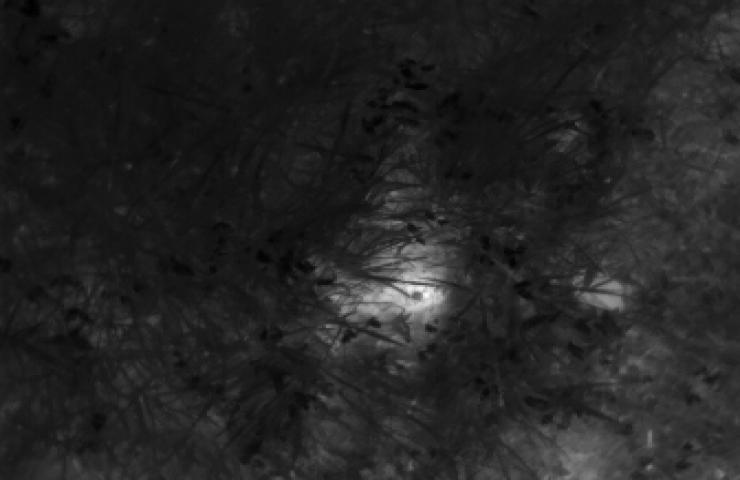landmines: (329, 248, 455, 329)
